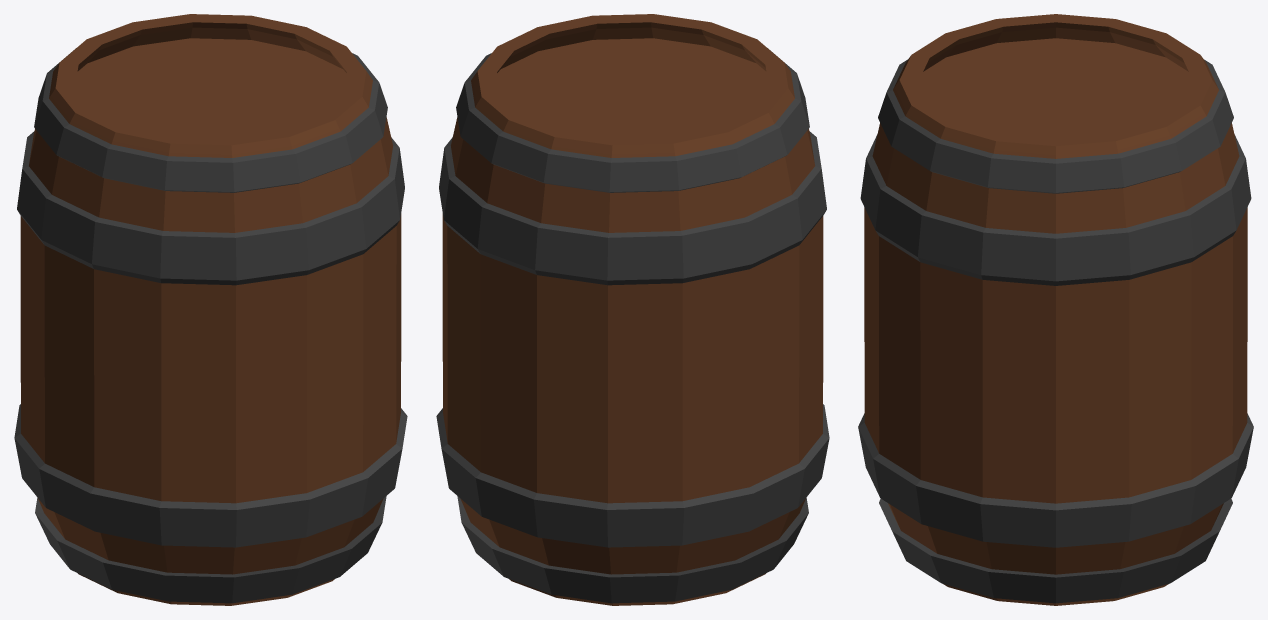
File: barrel01.gltf
3 views of the same model, side by side, from view 1: azimuth 30°, elevation 25°; view 2: azimuth 150°, elevation 25°; view 3: azimuth 270°, elevation 25° (orthographic).
Parts seen in each view (by area): view 1: Cylinder; view 2: Cylinder; view 3: Cylinder.
Part boxes in pixels (x1,y1,x2,y2): Cylinder: (14, 14, 407, 605); Cylinder: (436, 14, 829, 605); Cylinder: (858, 14, 1253, 605).
Bounding box in the file's own units: 0.6097 × 0.7839 × 0.6097.
1 material, 1 textured.
